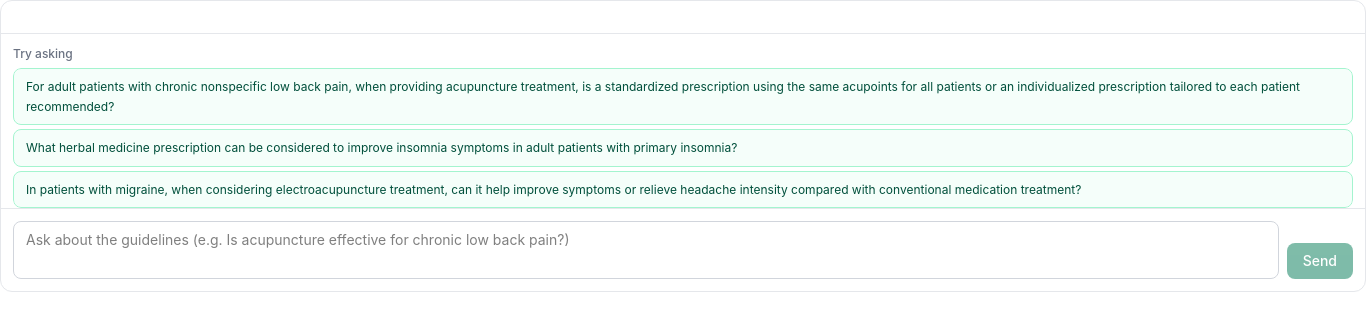
Test: ChatPanel 다국어 예시 질의문 (수용 기준 30-d·e, 31) › 기준 31: 영문 예시를 누르면 보이는 영문 그대로 채우고 한국어로 바꾸거나 즉시 전송하지 않는다
Click the button named "For adult patients with chronic nonspecific low back pain, when providing acupuncture treatment, is a standardized presc". click: (683, 96)
box: [13,68,1353,125]
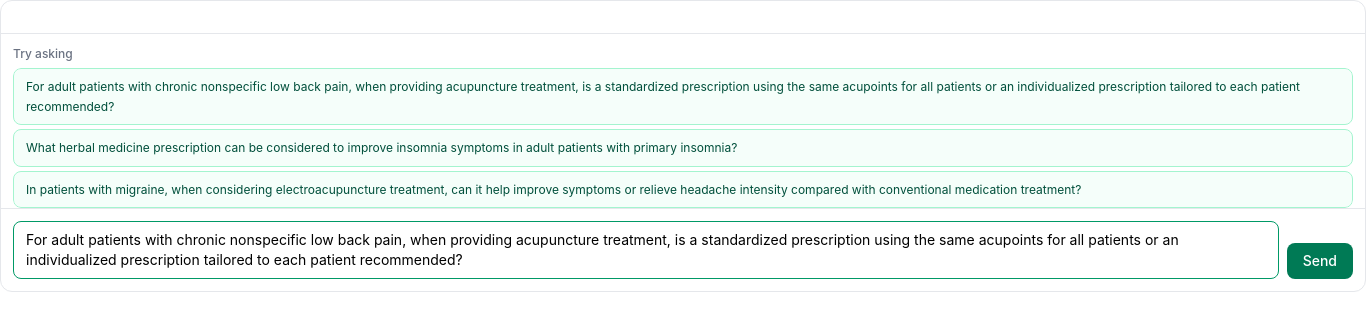
Result: the text box named "Question" holds "For adult patients with chronic nonspecific low back pain, when providing acupuncture treatment, is a standardized prescription using the same acupoints for all" at [13,221,1279,279]
Result: the text box named "Question" does not hold "성인 만성 비특이적 요통 환자에게 침 치료를 할 때, 모든 환자에게 같은 혈자리를 쓰는 표준 처방과 환자별로 달리하는 개별 처방 중 어느 쪽이 권고되나요?" at [13,221,1279,279]
